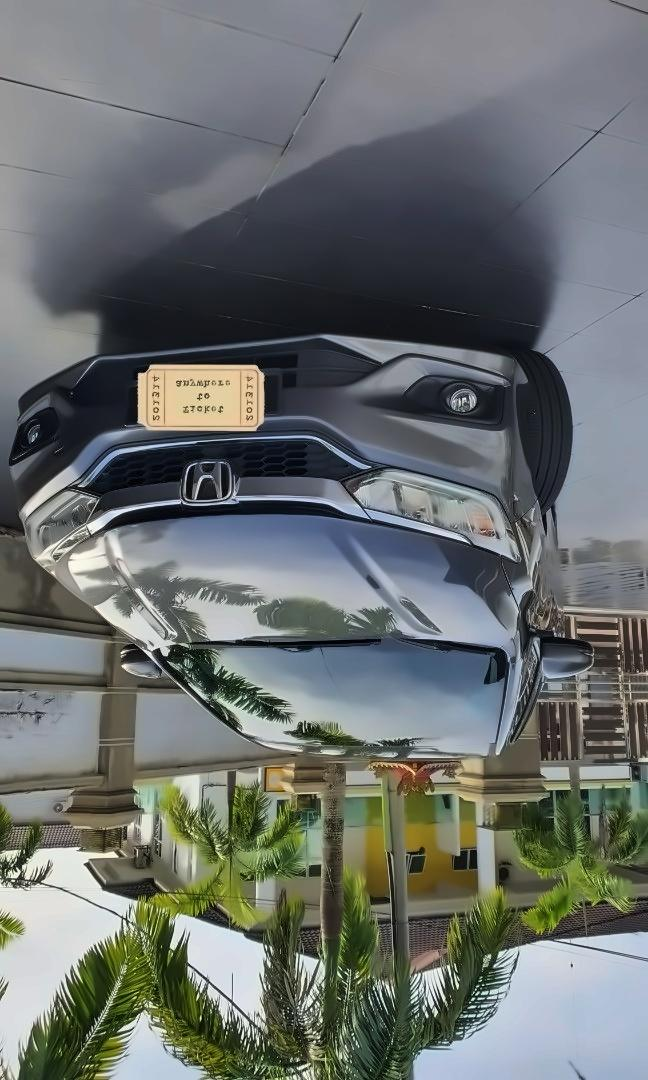Car hood: (46, 510, 527, 645)
Front bumper: (5, 323, 538, 498)
Headlight - -L-: (18, 478, 105, 569)
Headlight - -R-: (336, 458, 529, 566)
Side mirror - -L-: (112, 637, 168, 687)
Side mirror - -R-: (533, 632, 598, 690)
